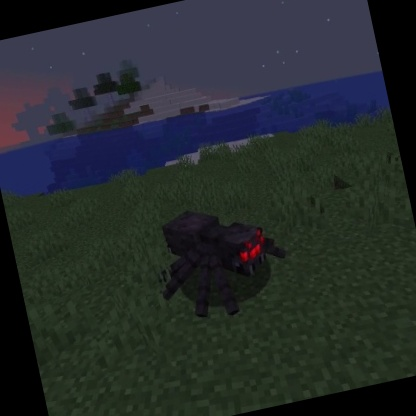spider: (143, 188, 298, 332)
